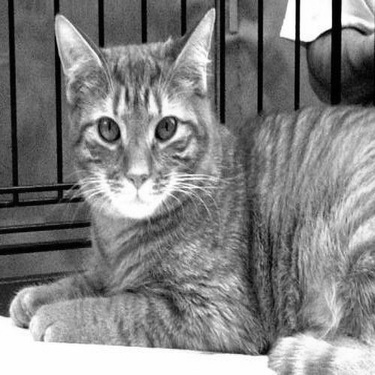cat: (11, 14, 368, 374)
